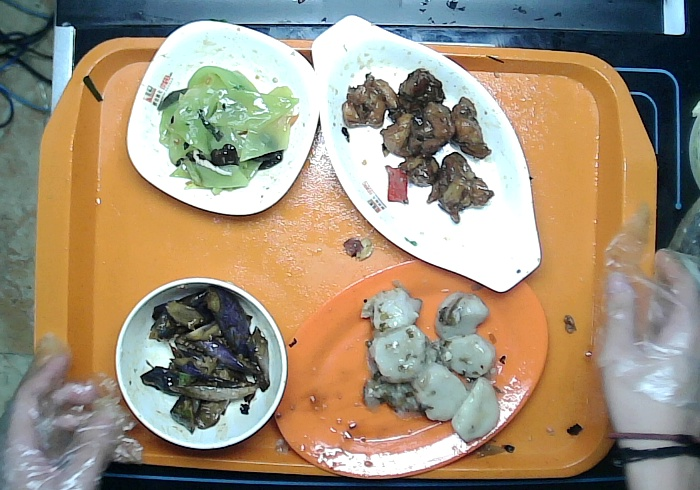NLDX-Bai_Se_Xiao_Fang_Die: (125, 20, 319, 215)
NLDX-Fan_Wan: (114, 275, 286, 450)
NLDX-Ju_Se_Pan: (272, 258, 550, 480)
NLDX-Yu_Pan: (311, 14, 542, 291)
